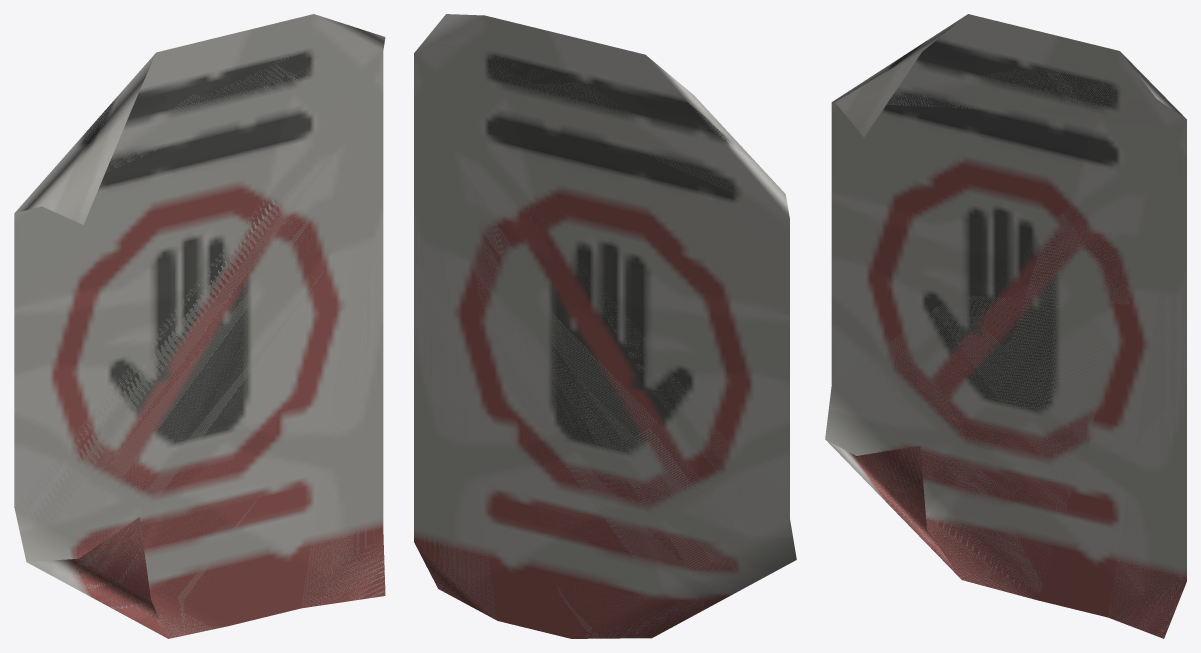
Rendered from SM_Prop_Sign_Poster_12.fbx.
3 renders of one model, left to right at view 1: azimuth 30°, elevation 25°; view 2: azimuth 150°, elevation 25°; view 3: azimuth 330°, elevation 25°, orthographic. The views are drawn at different scales.
Parts seen in each view (by area): view 1: SM_Prop_Sign_Poster_12; view 2: SM_Prop_Sign_Poster_12; view 3: SM_Prop_Sign_Poster_12.
Part boxes in pixels (<box>): SM_Prop_Sign_Poster_12: <box>14,14,385,638</box>; SM_Prop_Sign_Poster_12: <box>414,14,796,638</box>; SM_Prop_Sign_Poster_12: <box>825,14,1186,638</box>.
Size of the model in its own units: 41.46 by 63.51 by 3.74.
